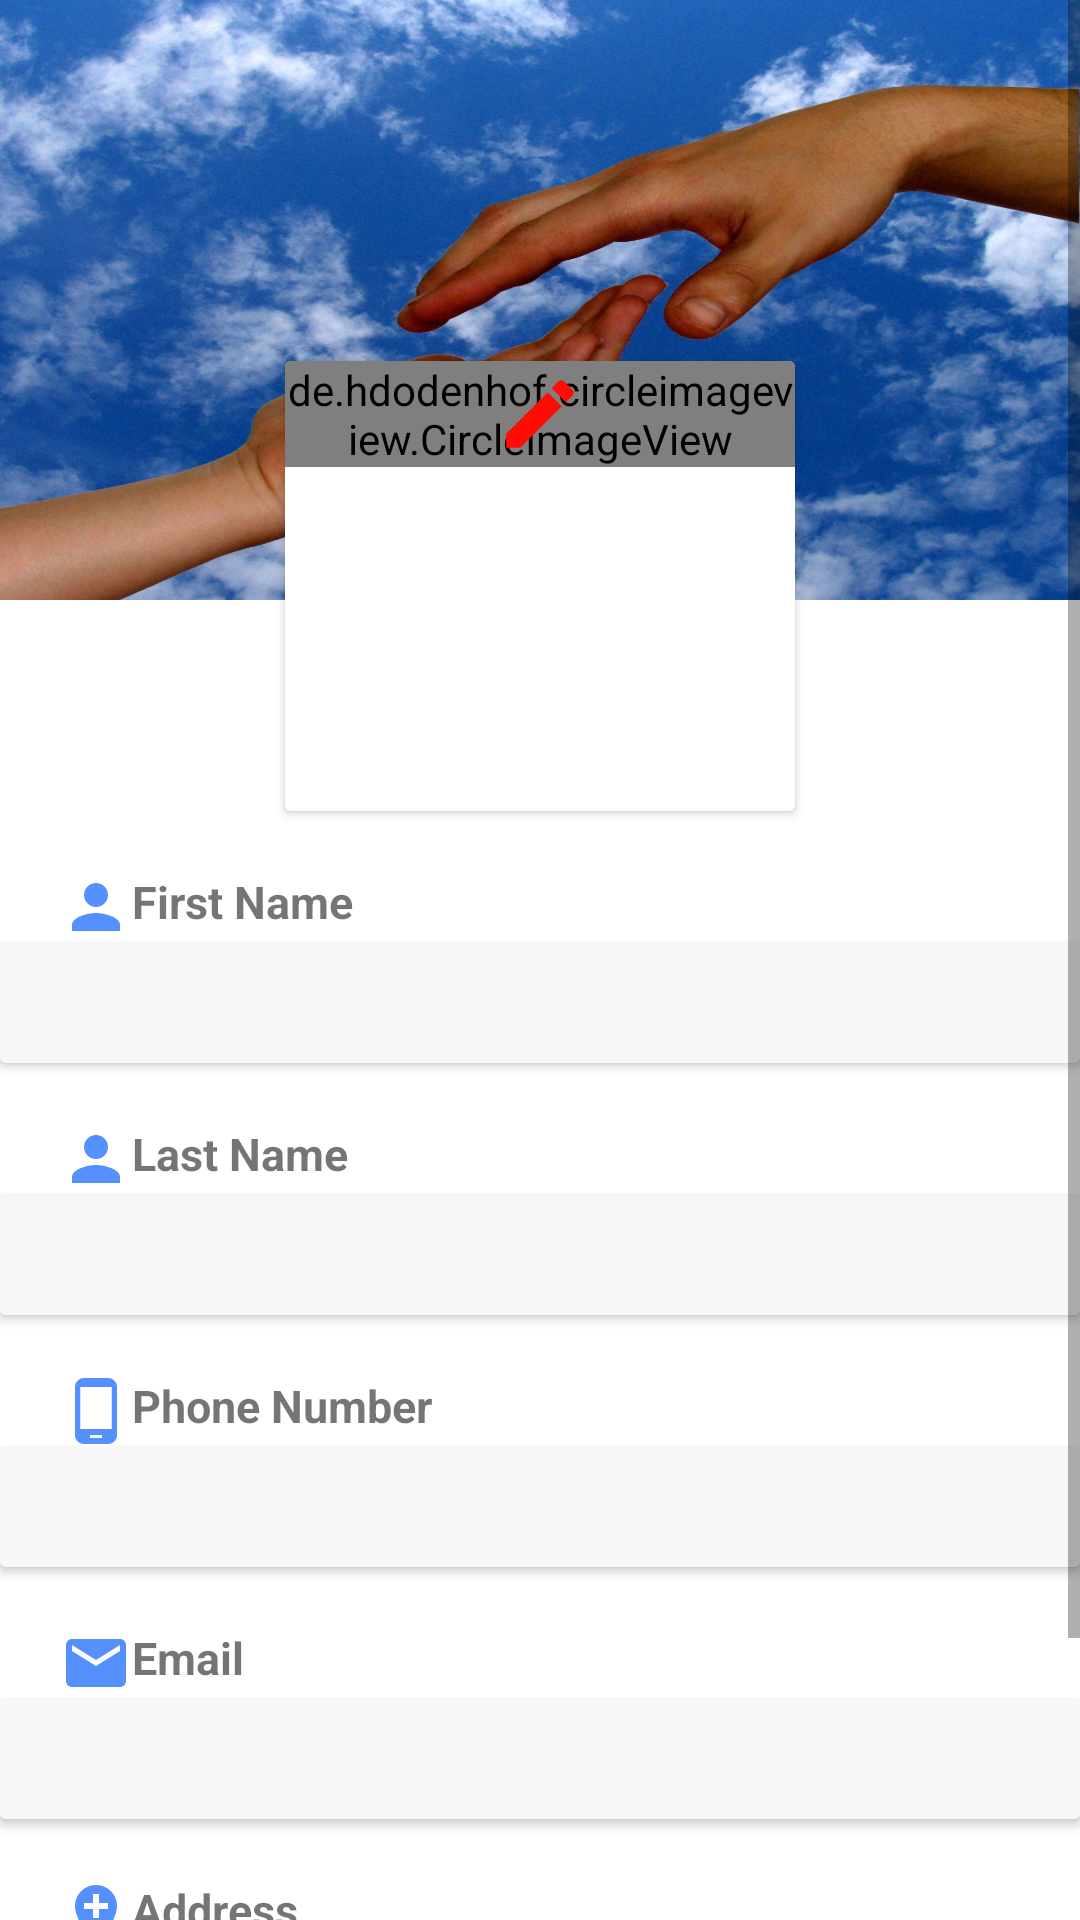

Point at icon controls on the screen. Image size 1080*1920, points as (x,y).
editred: (540,415)
